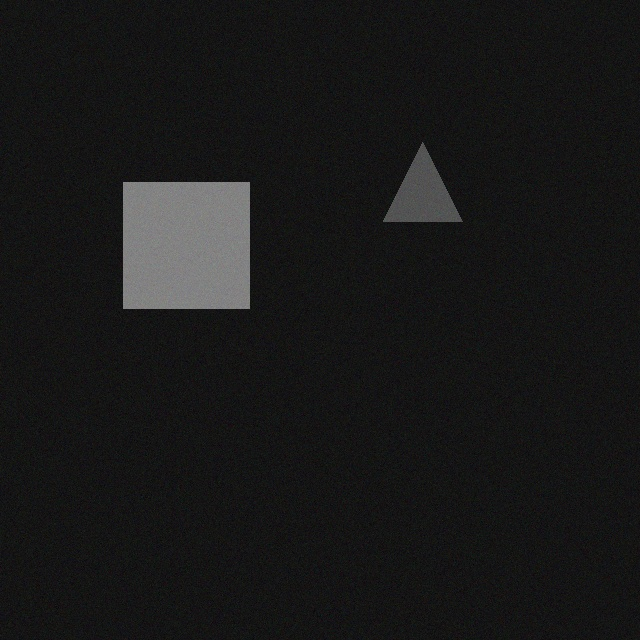square: (124, 170, 250, 296)
triangle: (384, 130, 463, 209)
